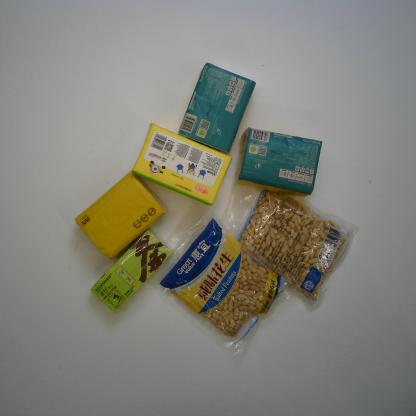Dried Fruit: (137, 200, 302, 356), (226, 183, 359, 308)
Instant Drink: (90, 229, 172, 315)
Tissue: (131, 122, 233, 206), (75, 170, 168, 260), (177, 62, 257, 155), (234, 126, 323, 198)
